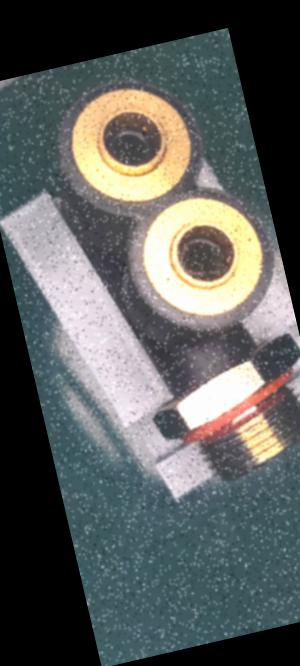bump: (47, 136, 71, 176)
off-centered: (172, 228, 236, 283)
white mark: (209, 350, 234, 368)
